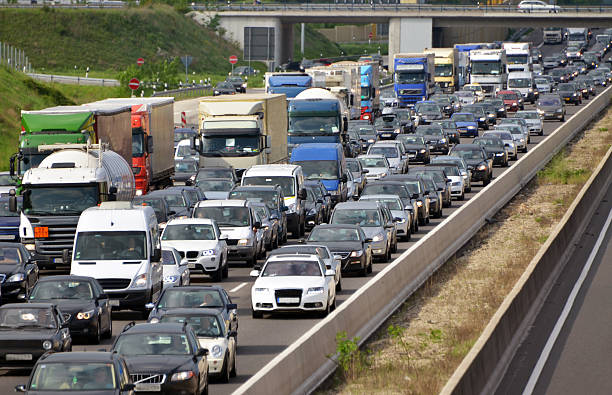bus: (74, 206, 160, 309)
car: (112, 327, 204, 395), (2, 303, 71, 382), (251, 255, 332, 319), (32, 276, 109, 338), (169, 305, 233, 379), (242, 165, 303, 234), (162, 219, 226, 280), (330, 204, 390, 264), (159, 289, 234, 336), (199, 201, 253, 264), (230, 187, 289, 244), (313, 225, 369, 276), (292, 148, 344, 198), (1, 243, 36, 303), (366, 194, 408, 239), (449, 145, 488, 186), (412, 168, 449, 205), (196, 169, 232, 204), (368, 145, 404, 175), (438, 164, 465, 200), (405, 181, 427, 222), (476, 138, 508, 166), (414, 126, 444, 154), (401, 134, 430, 161), (358, 157, 386, 183), (434, 117, 459, 146), (375, 115, 400, 141), (354, 125, 378, 152), (499, 125, 524, 150), (537, 95, 562, 120), (453, 112, 476, 139), (471, 105, 491, 133), (520, 113, 542, 138), (497, 87, 516, 113), (557, 84, 580, 105), (411, 100, 432, 123), (217, 80, 244, 96), (575, 80, 596, 100), (465, 84, 484, 103), (441, 95, 461, 113), (549, 68, 567, 85), (565, 45, 579, 63), (533, 79, 550, 93), (494, 100, 506, 119), (587, 73, 606, 85), (459, 92, 475, 106), (544, 58, 558, 70)
stop: (129, 78, 139, 89), (229, 55, 238, 65), (137, 58, 144, 67)
truck: (23, 153, 118, 265), (19, 105, 129, 192), (198, 101, 283, 175), (112, 98, 176, 185), (286, 98, 347, 153), (392, 55, 434, 105), (466, 51, 505, 96), (324, 67, 360, 115), (424, 48, 458, 92), (501, 42, 531, 79), (566, 28, 587, 49), (544, 28, 562, 49)
